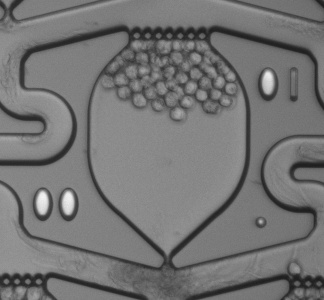AptNum: (252, 61, 312, 109)
Marker: (250, 212, 272, 233)
StNum: (23, 180, 87, 231)
Trap: (140, 257, 196, 300)
